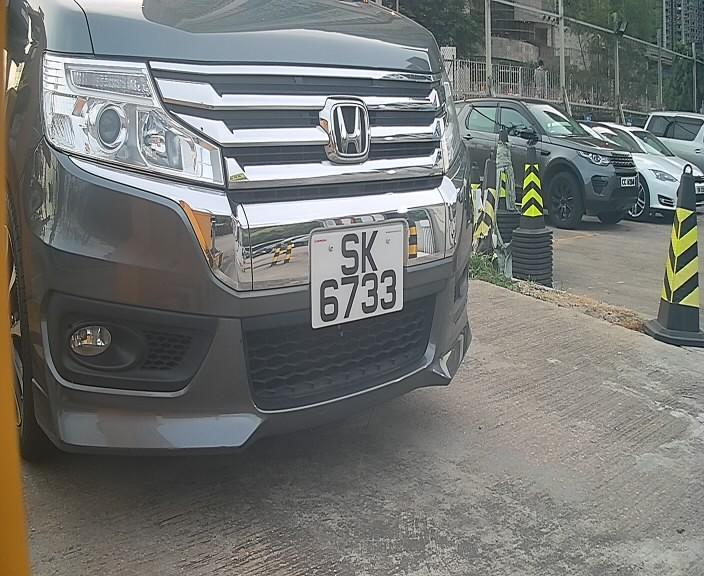privatecar: (1, 11, 513, 463)
